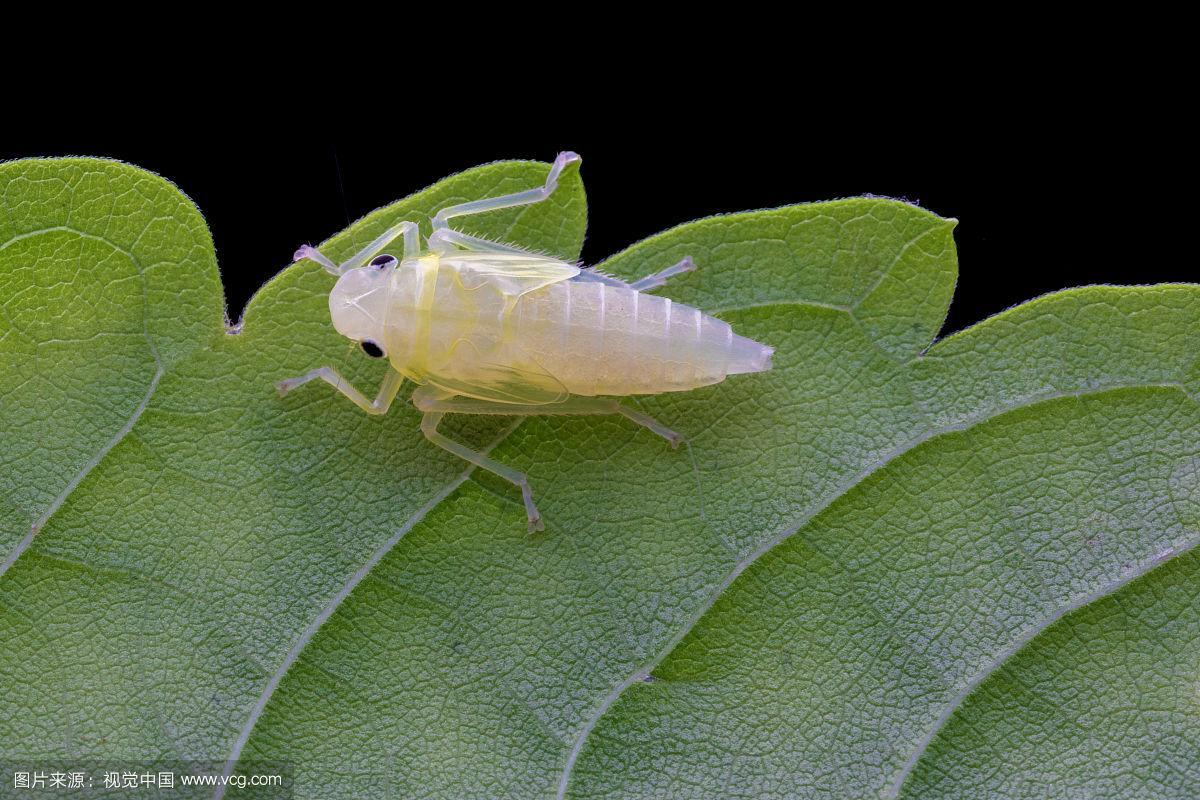Cicadellidae: (286, 153, 774, 530)
